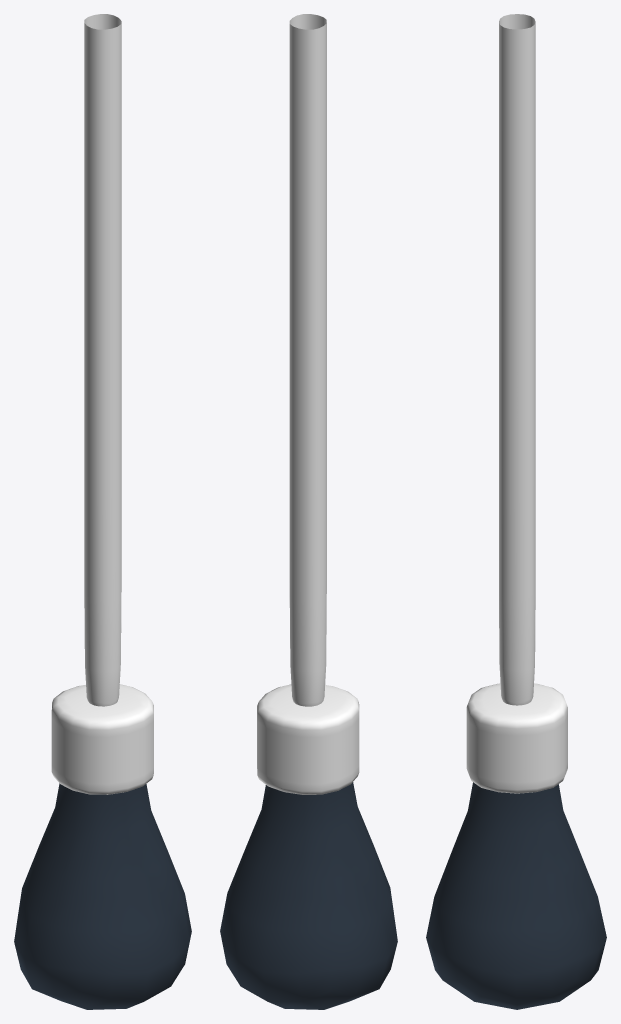
The model's file is lamp.fbx.
3 renders of one model, left to right at view 1: azimuth 30°, elevation 25°; view 2: azimuth 150°, elevation 25°; view 3: azimuth 270°, elevation 25°, orthographic.
Parts seen in each view (by area): view 1: Lâmpada.001; view 2: Lâmpada.001; view 3: Lâmpada.001.
Part boxes in pixels (left/top/right/bottom): Lâmpada.001: left=14, top=14, right=191, bottom=1009; Lâmpada.001: left=220, top=14, right=397, bottom=1009; Lâmpada.001: left=426, top=14, right=606, bottom=1009.
Bounding box in the file's own units: 0.2722 × 1.62 × 0.2722.
